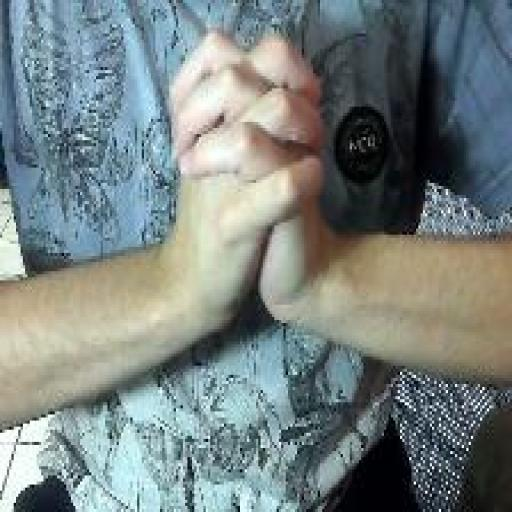Mi -snake-: (165, 24, 329, 336)
